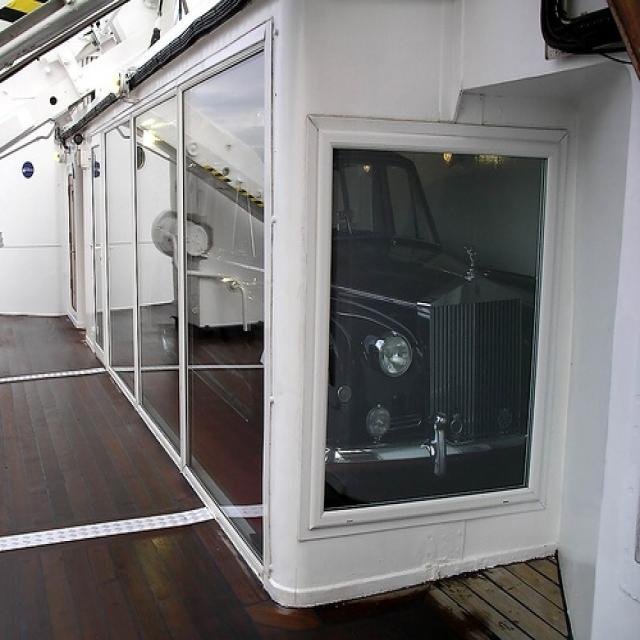car: (159, 146, 539, 497)
